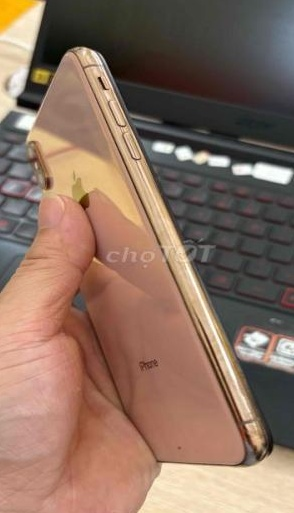scratch: (165, 437, 190, 458)
